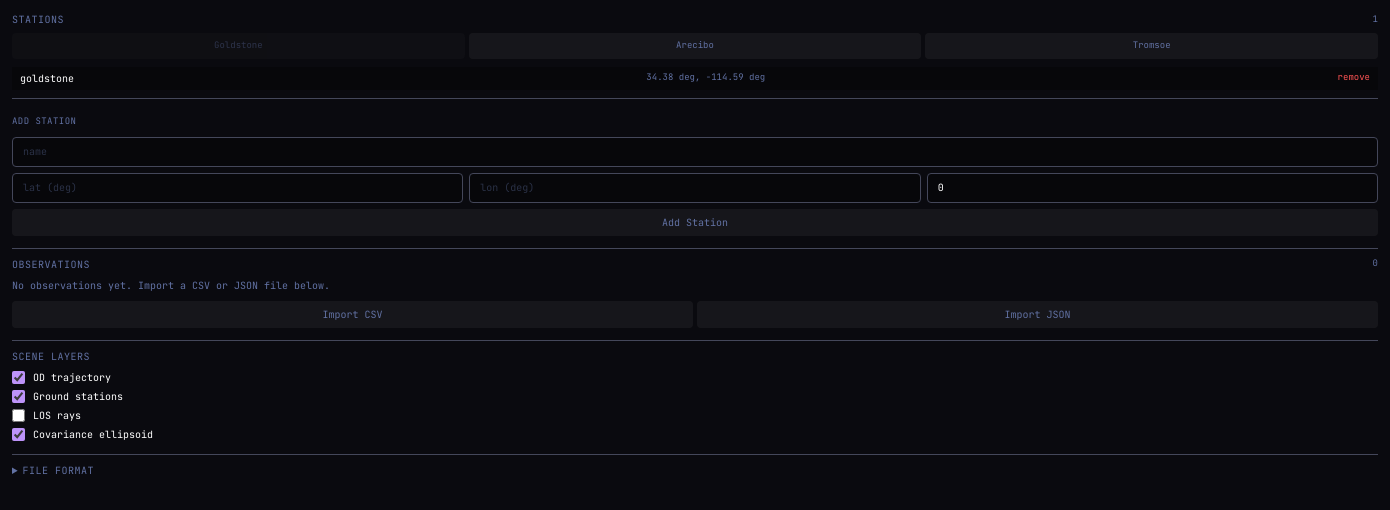
Test: ObservationPanel › manual add rejects a duplicate station name
Type "Goldstone" into the field named "Station name" at x=695, y=152, box [12, 136, 1378, 166]
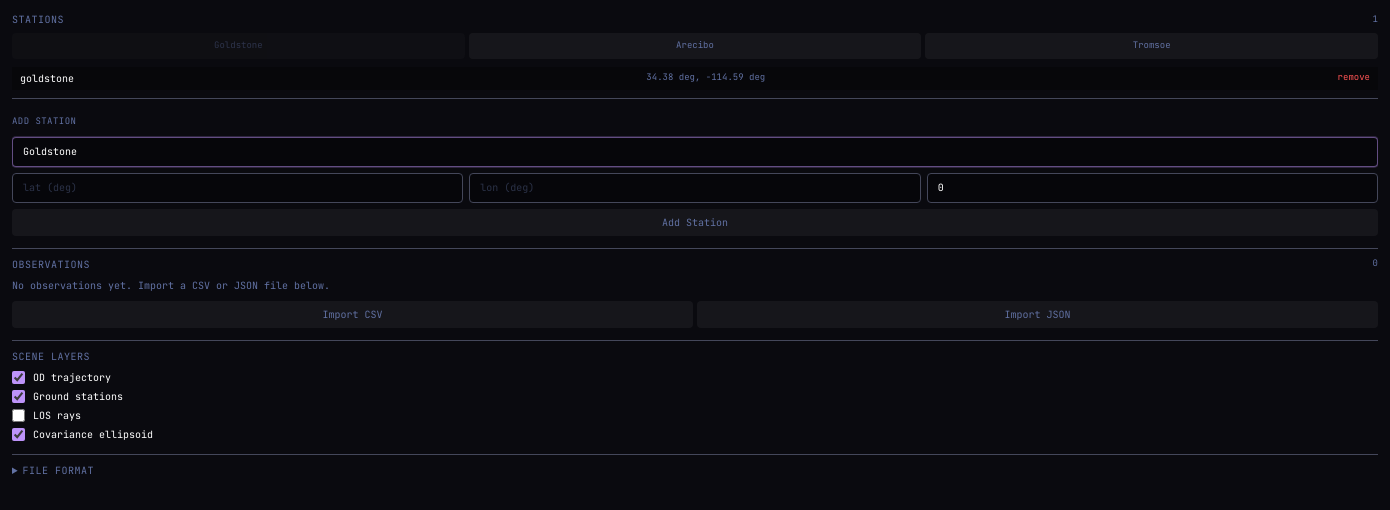
Click the button "Add Station" at x=695, y=222, box [12, 208, 1378, 236]
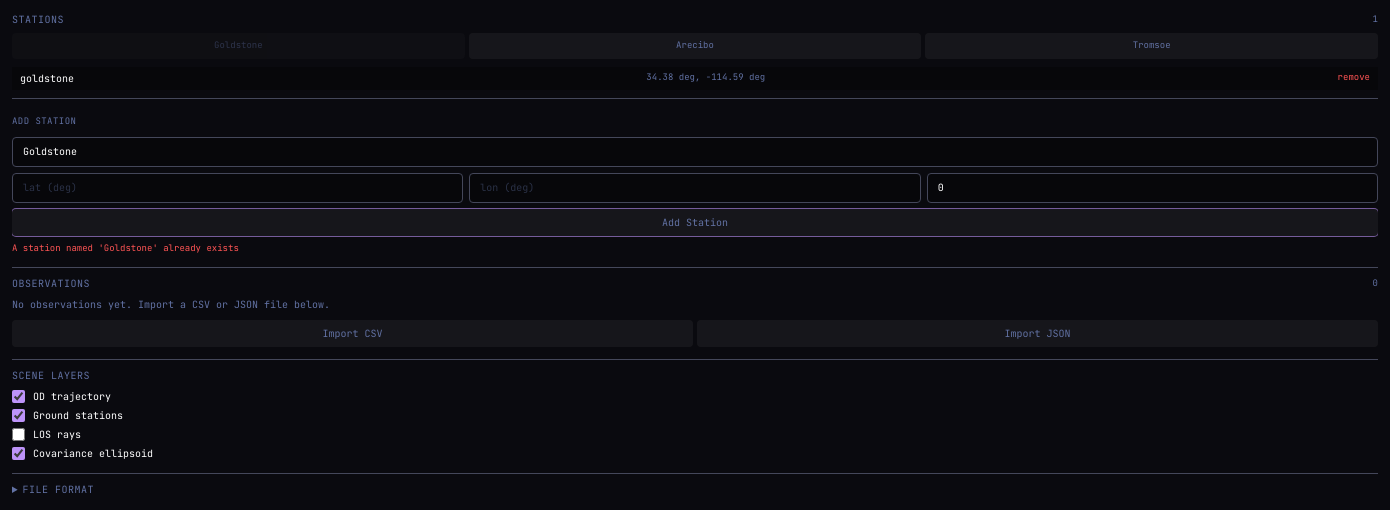
Check: the message reads "A station named 'Goldstone' already exists", box [12, 242, 239, 254]
